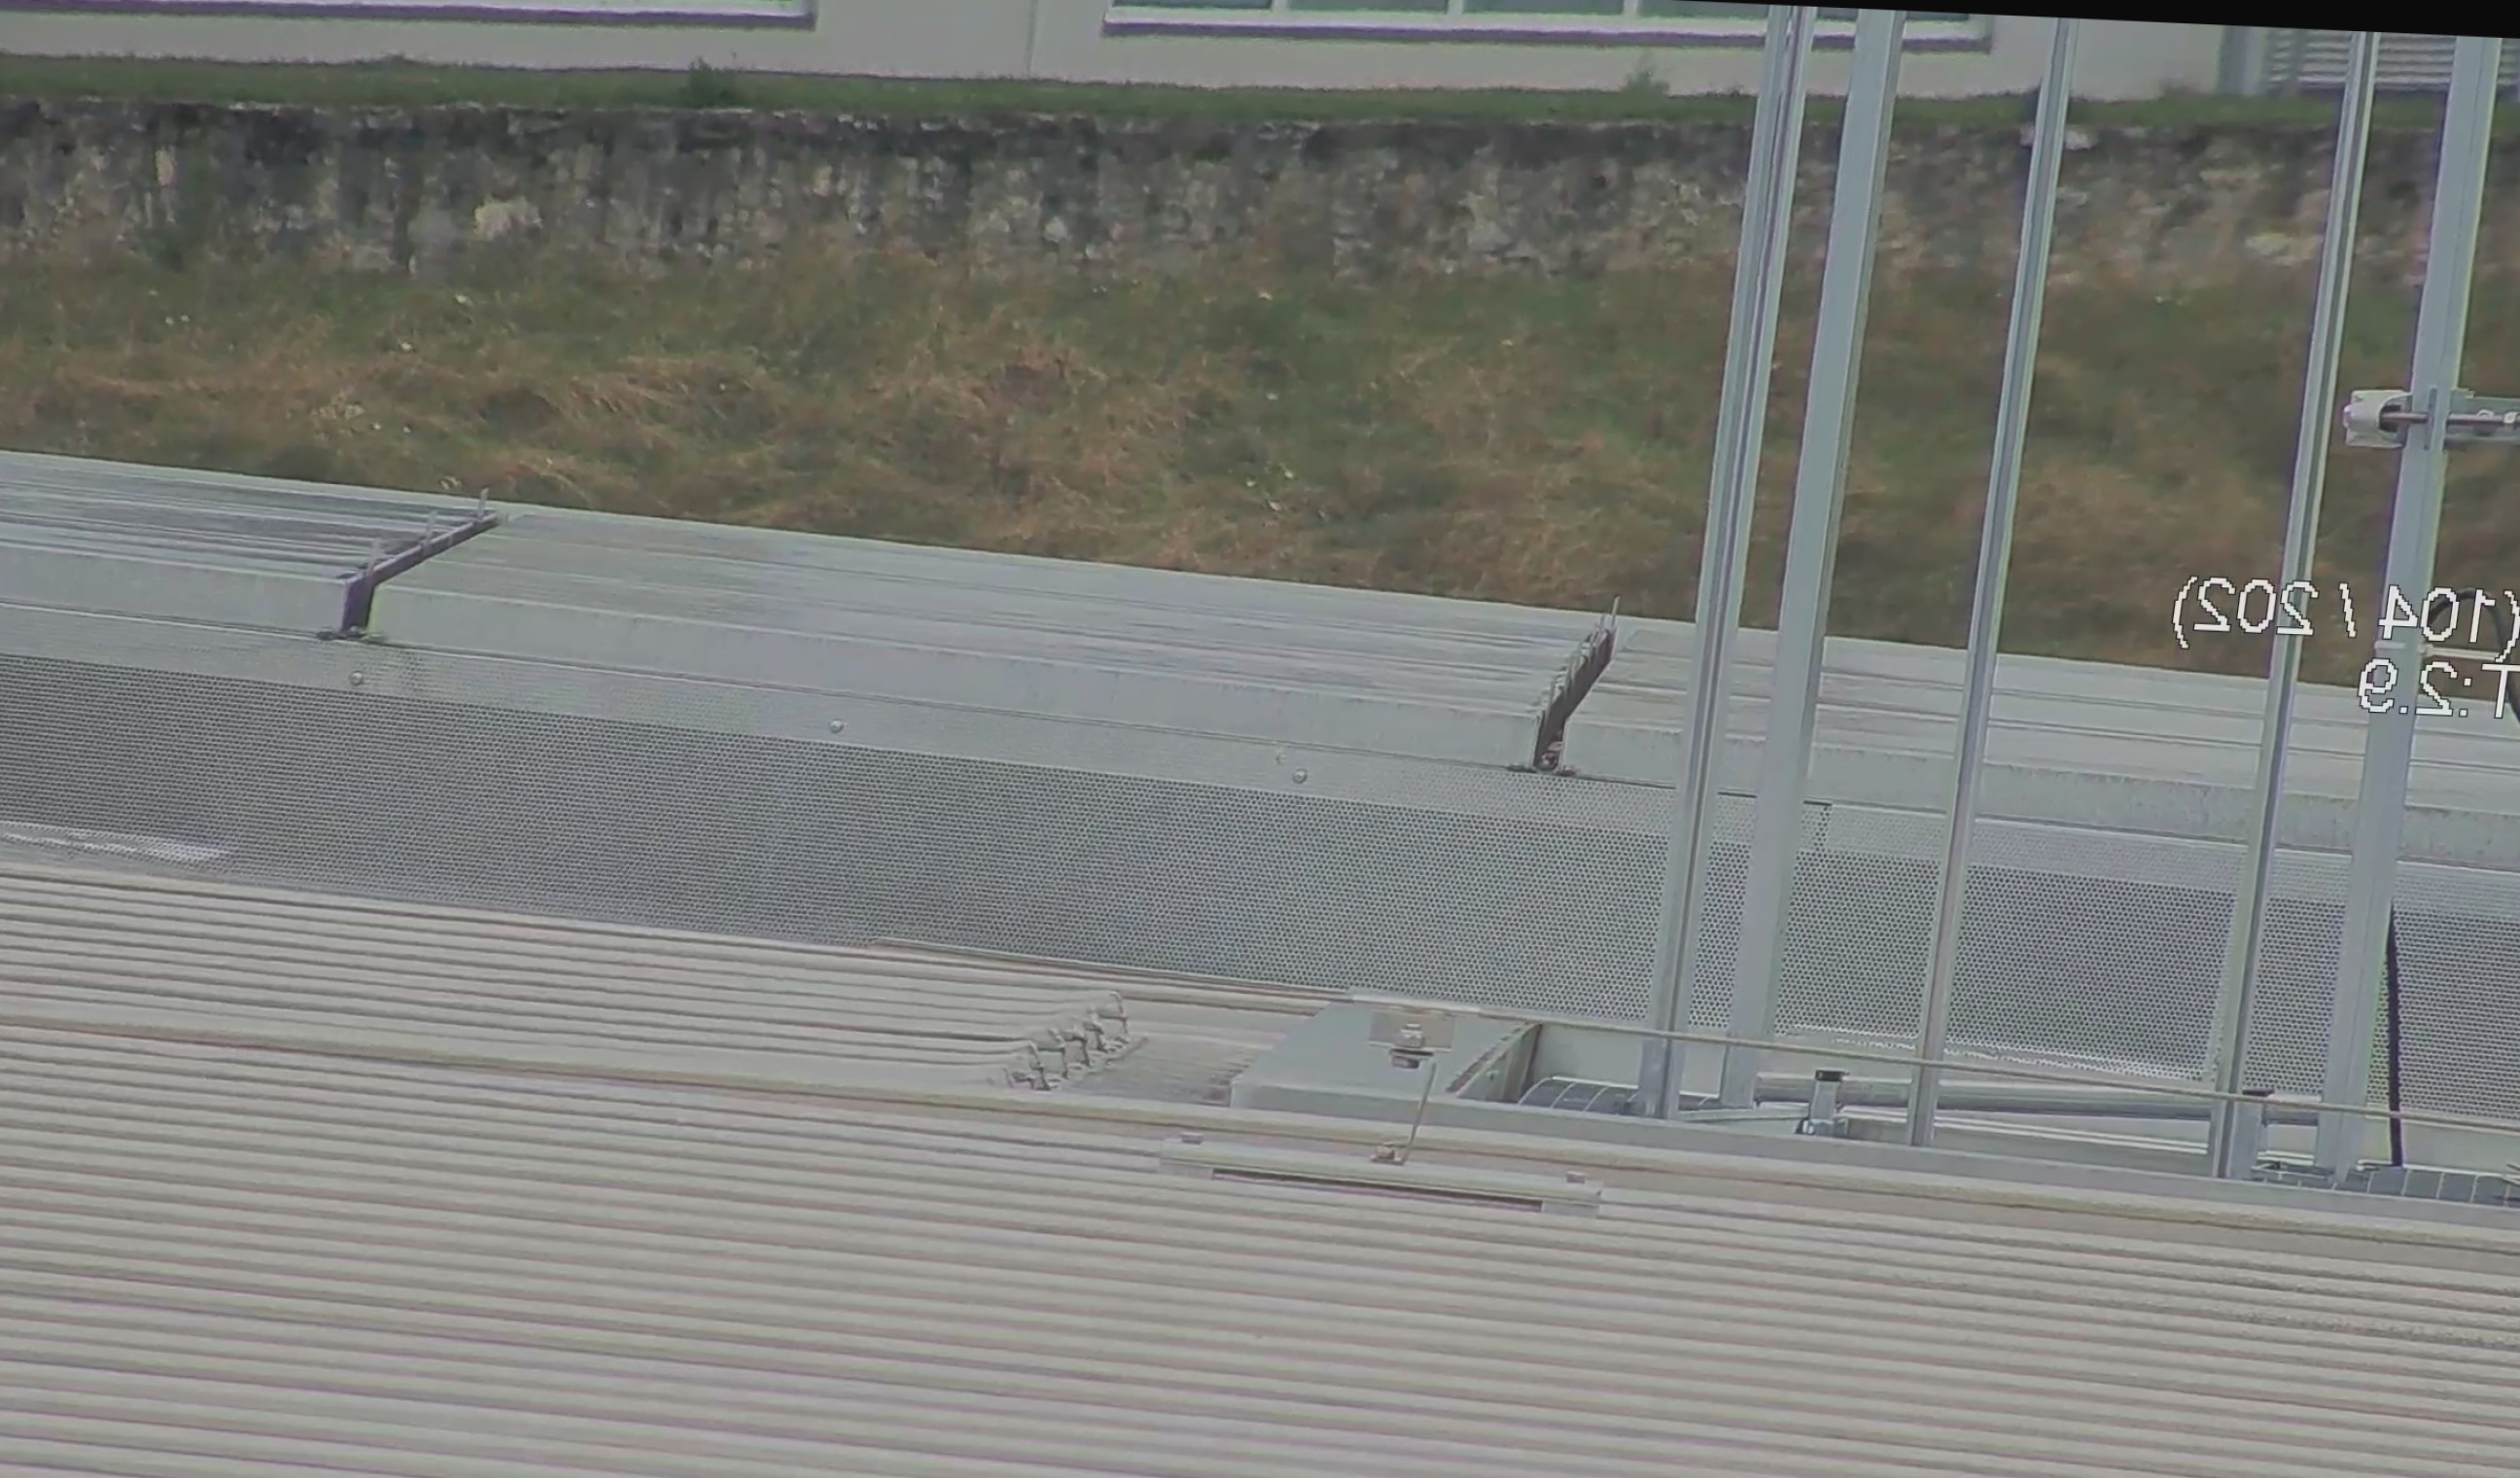Other: (1509, 596, 1642, 785)
